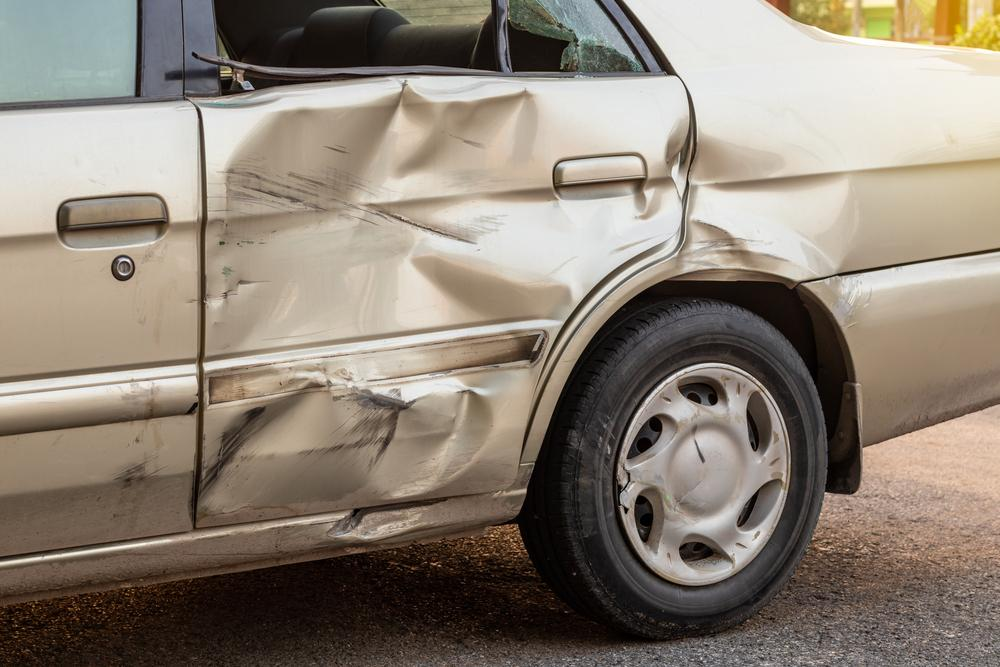dent: (197, 81, 688, 512), (676, 134, 864, 277), (333, 495, 435, 538)
glass shatter: (508, 0, 646, 72)
scratch: (107, 376, 176, 539)
